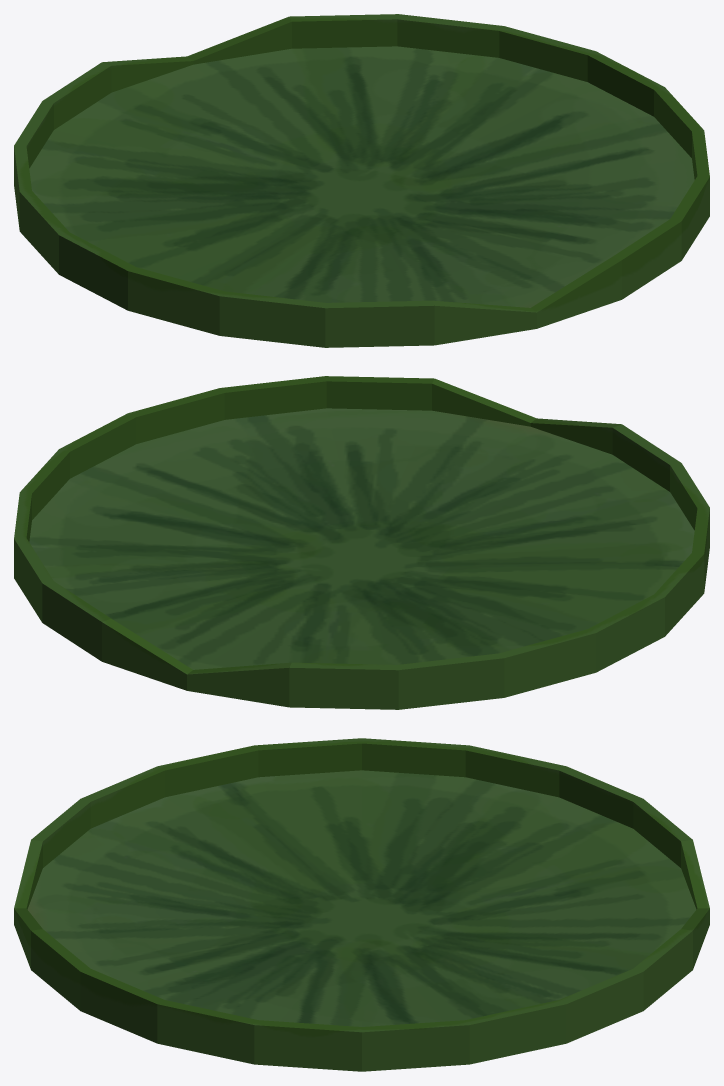
The model's file is LotusOnly_Mod.fbx.
3 views of the same model, one above another, from view 1: azimuth 30°, elevation 25°; view 2: azimuth 150°, elevation 25°; view 3: azimuth 270°, elevation 25° (orthographic).
Visible parts, largest first — view 1: Frog; view 2: Frog; view 3: Frog.
Boxes of the visible parts, x1,y1,x2,y2 form: Frog: (14, 14, 709, 347); Frog: (14, 376, 709, 709); Frog: (14, 738, 709, 1071).
Size of the model in its own units: 722 by 47.41 by 722.
